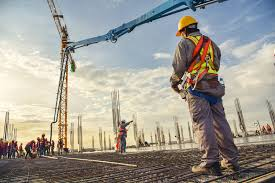hard hat: (175, 16, 198, 37)
high-vis: (186, 35, 218, 78)
